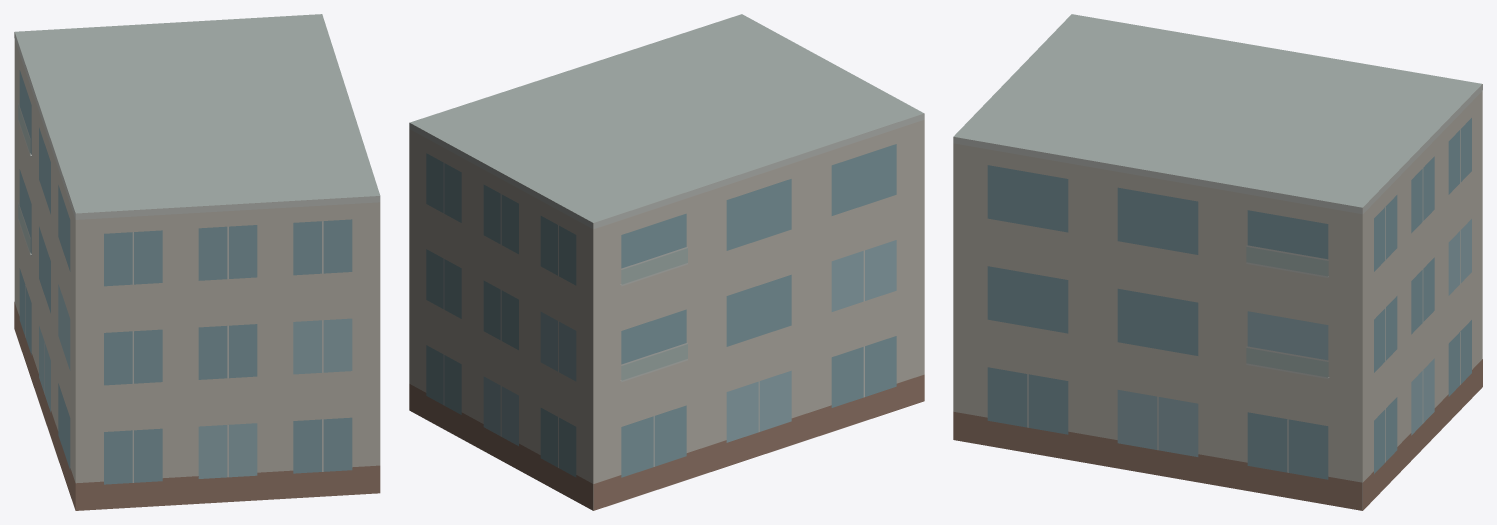
File: survey-upis-32839572.glb
The picture shows the model from 3 angles, left to right: view 1: azimuth 30°, elevation 25°; view 2: azimuth 150°, elevation 25°; view 3: azimuth 270°, elevation 25°; orthographic projection. The views are drawn at different scales.
Parts seen in each view (by area): view 1: survey-upis-32839572.tmp; view 2: survey-upis-32839572.tmp; view 3: survey-upis-32839572.tmp.
Boxes of the visible parts, x1=… form: survey-upis-32839572.tmp: x1=14, y1=14, x2=380, y2=510; survey-upis-32839572.tmp: x1=409, y1=14, x2=924, y2=510; survey-upis-32839572.tmp: x1=953, y1=14, x2=1482, y2=510.
Size of the model in its own units: 15.29 by 11.15 by 17.66.
